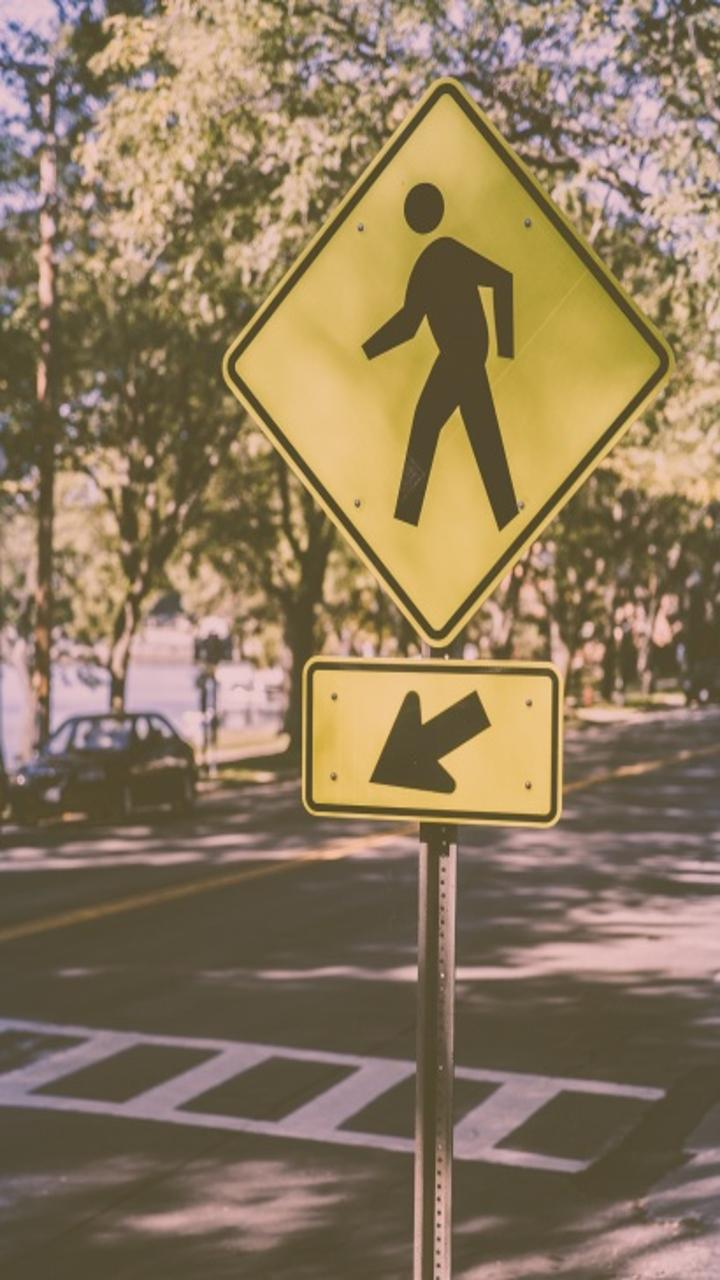Traffic sign: (163, 83, 714, 651), (288, 656, 615, 867)
